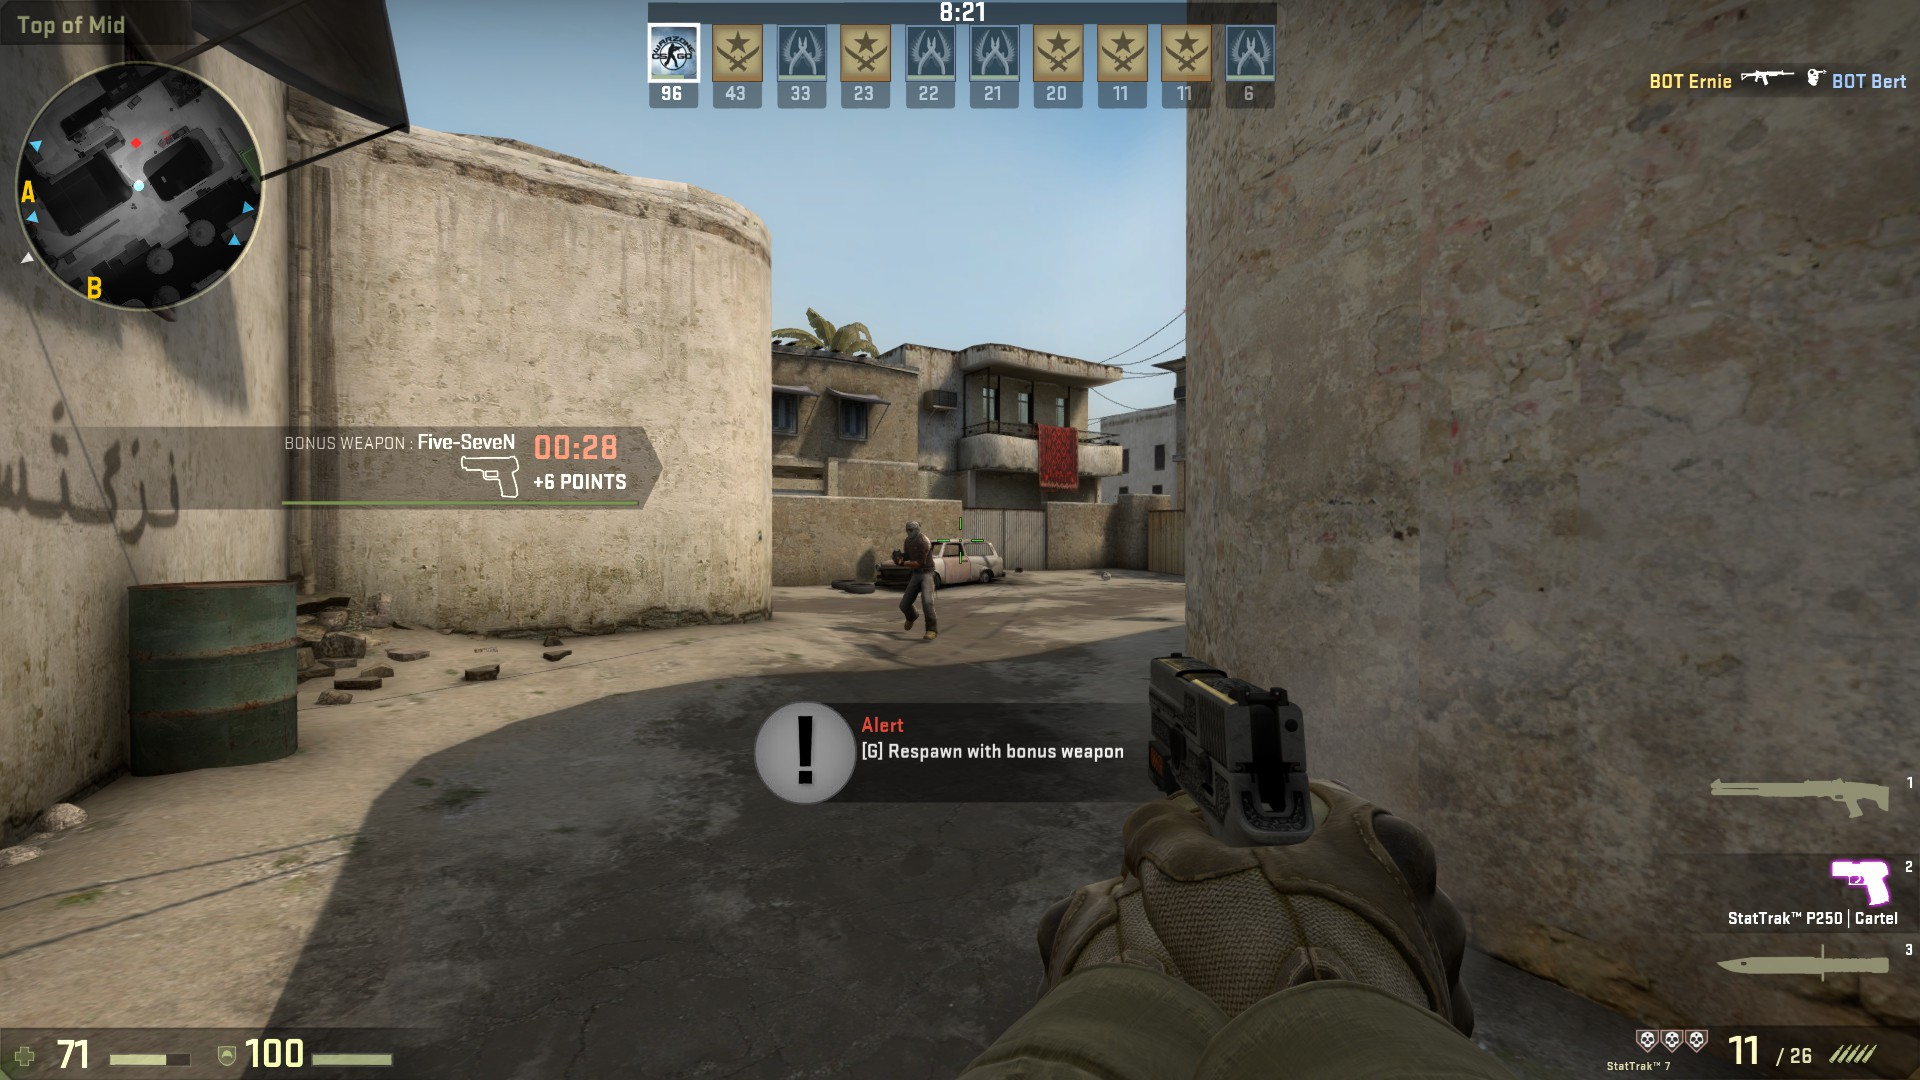t: (891, 518, 939, 640)
th: (903, 520, 924, 542)
